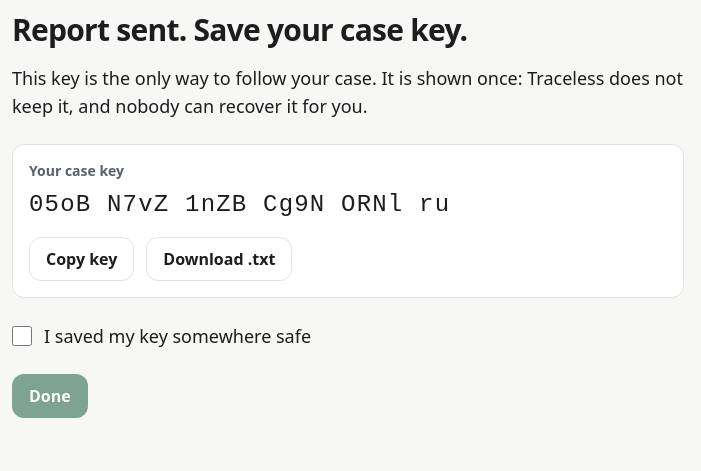
Test: CaseKeyScreen › explains when copying is blocked
Click the button "Copy key".
click(82, 259)  # box [29, 237, 134, 281]
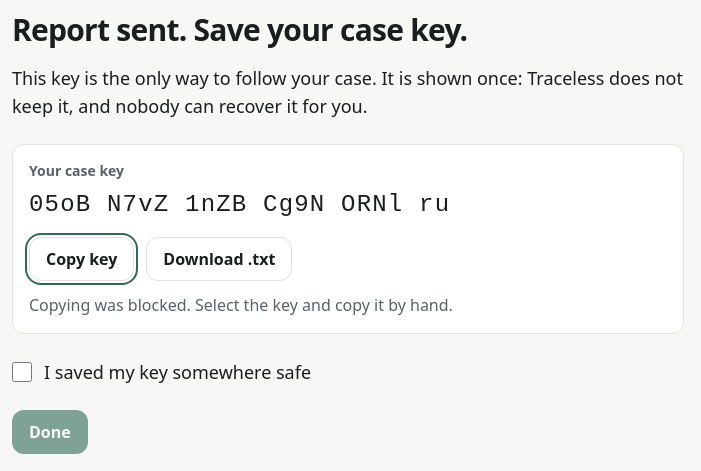
Result: the text "Copying was blocked. Select the key and copy it by hand." is shown at [29, 293, 453, 317]
